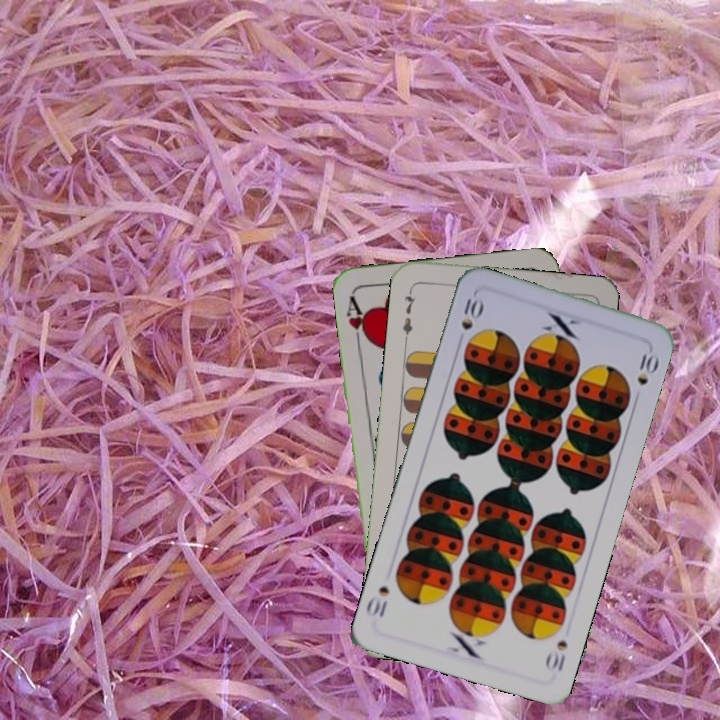E7: (398, 284, 418, 343)
HA: (342, 291, 372, 350)
S10: (541, 636, 570, 674), (457, 294, 485, 333)
